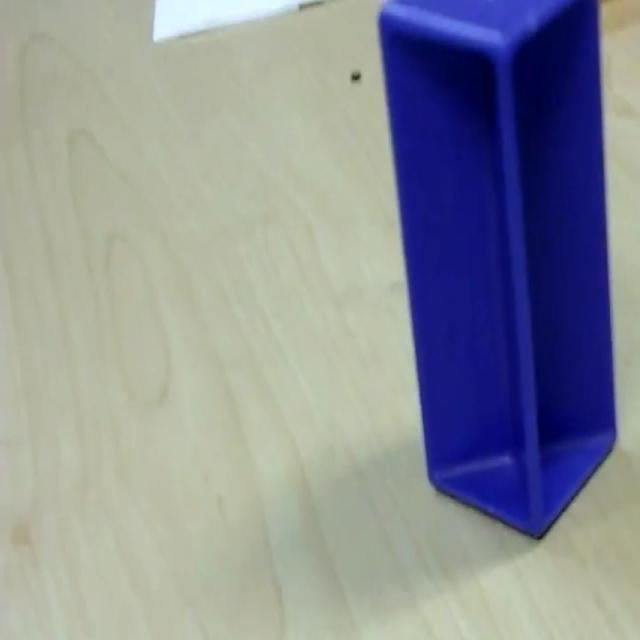blue_block: (375, 0, 618, 539)
